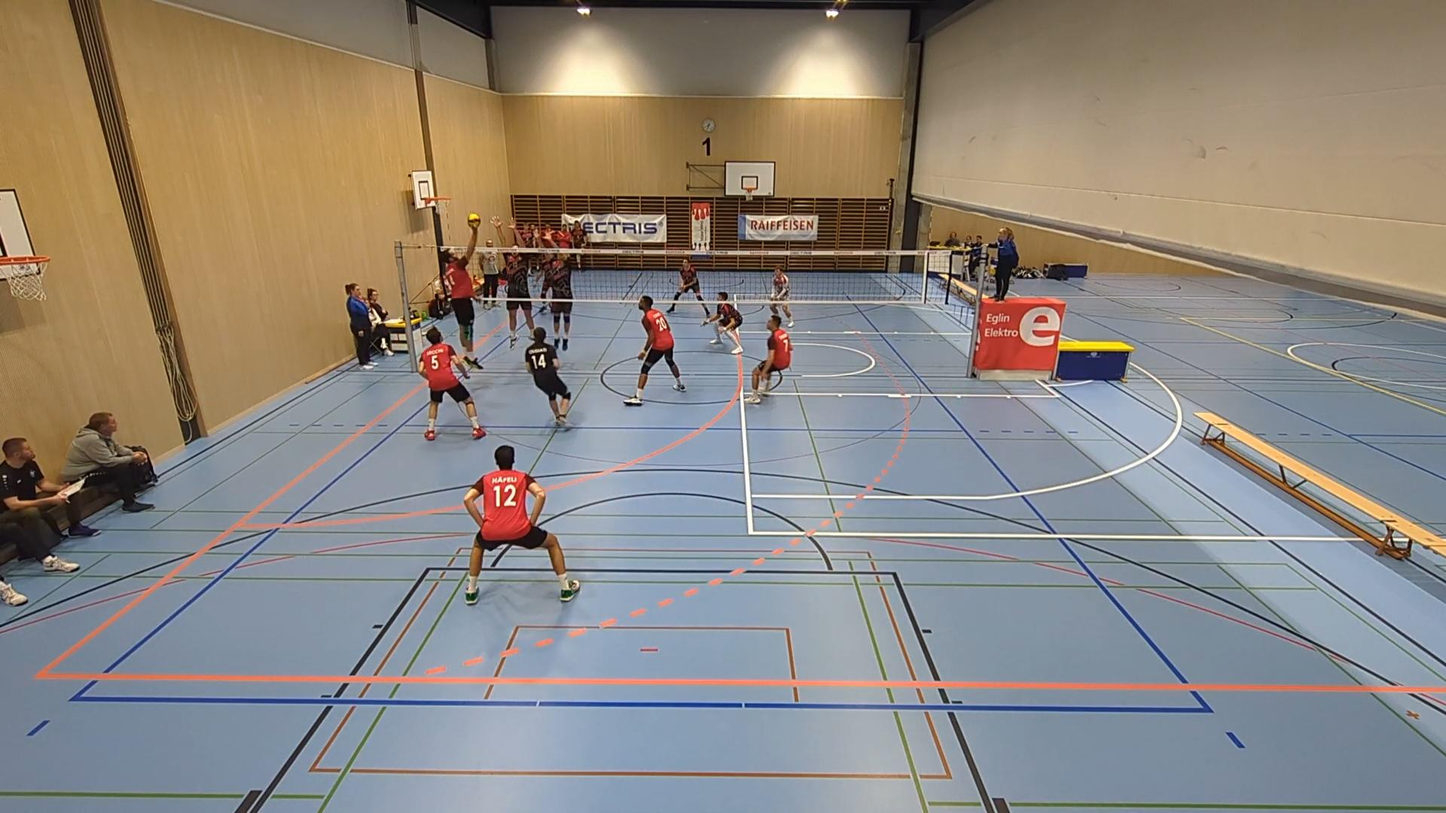Attack: (437, 226, 495, 366)
Block: (485, 213, 538, 351), (532, 227, 581, 353)
Player: (464, 445, 580, 604), (419, 327, 485, 440), (624, 296, 685, 406), (525, 327, 570, 425), (745, 315, 790, 403), (703, 291, 743, 354), (667, 259, 707, 317), (769, 266, 793, 327), (480, 240, 501, 309)
ball: (467, 211, 483, 224)
